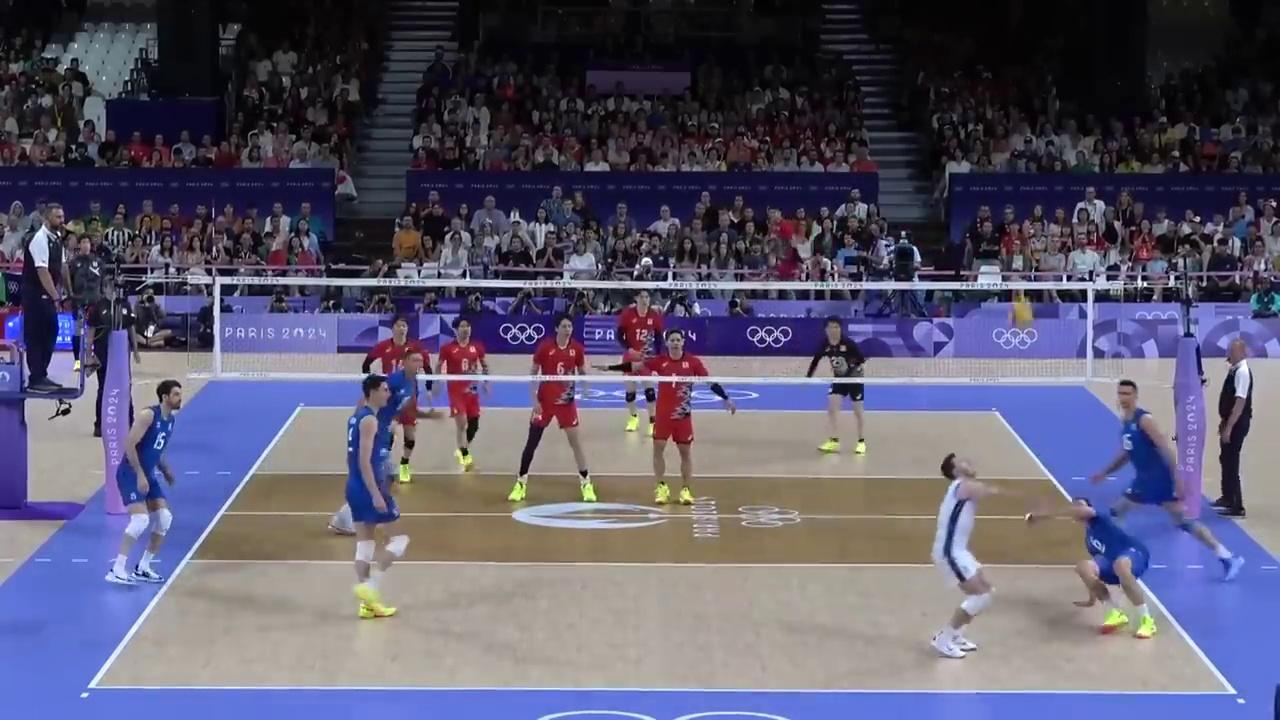ball: (1008, 301, 1033, 329)
